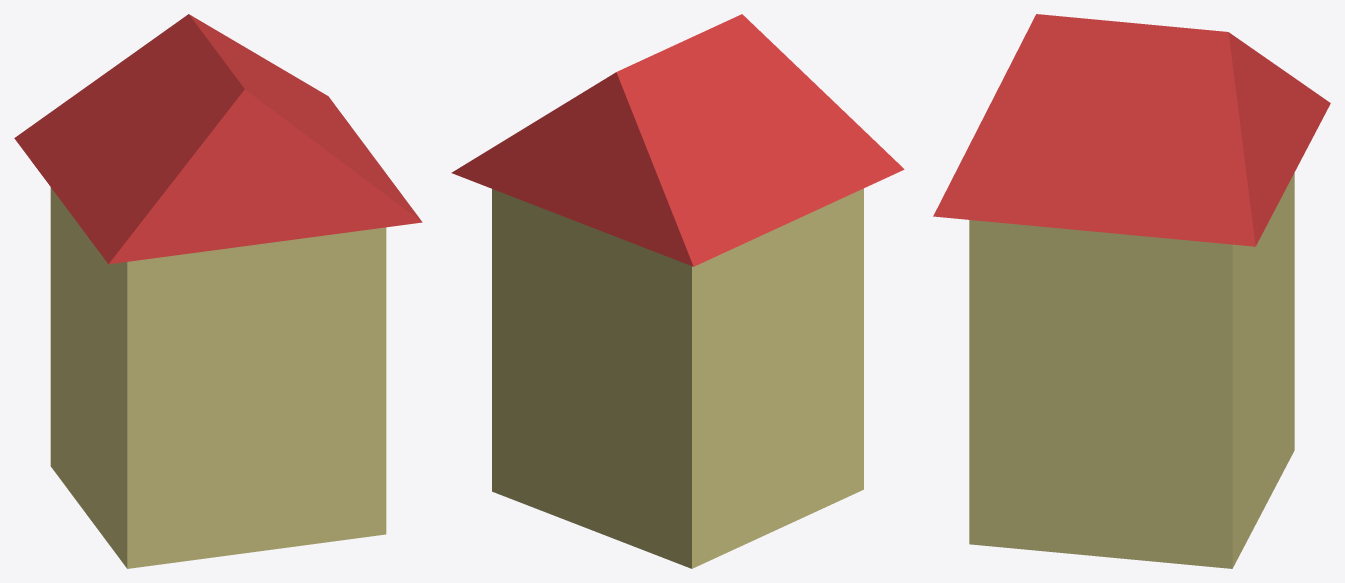
3 views of the same model, side by side, from view 1: azimuth 30°, elevation 25°; view 2: azimuth 150°, elevation 25°; view 3: azimuth 270°, elevation 25° (orthographic). The views are drawn at different scales.
Visible parts, largest first — view 1: group_5, group_3, group_4; view 2: group_5, group_3, group_4; view 3: group_5, group_3, group_4.
Part boxes in pixels (bbox=[...]): group_5: bbox=[50, 187, 386, 568]; group_3: bbox=[14, 14, 422, 264]; group_4: bbox=[61, 73, 421, 263]; group_5: bbox=[492, 188, 863, 568]; group_3: bbox=[451, 14, 903, 266]; group_4: bbox=[576, 99, 904, 266]; group_5: bbox=[969, 173, 1294, 568]; group_3: bbox=[933, 14, 1330, 245]; group_4: bbox=[933, 71, 1330, 246].
Size of the model in its own units: 13.47 by 13.04 by 17.13.
